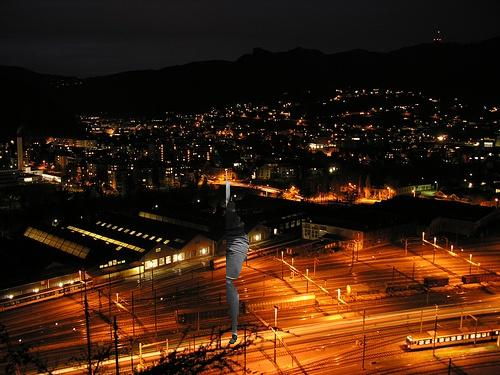tampered: (227, 172, 249, 344)
